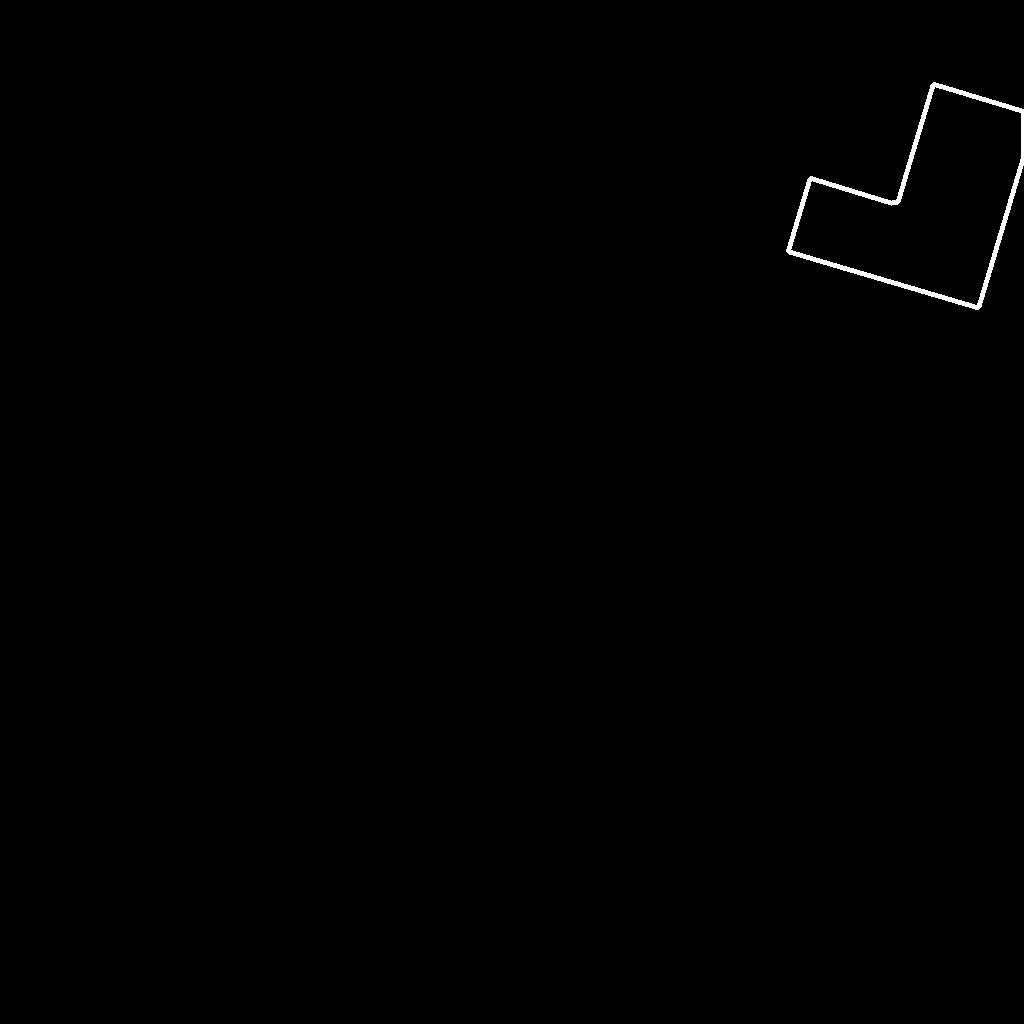building: (788, 84, 1024, 309)
